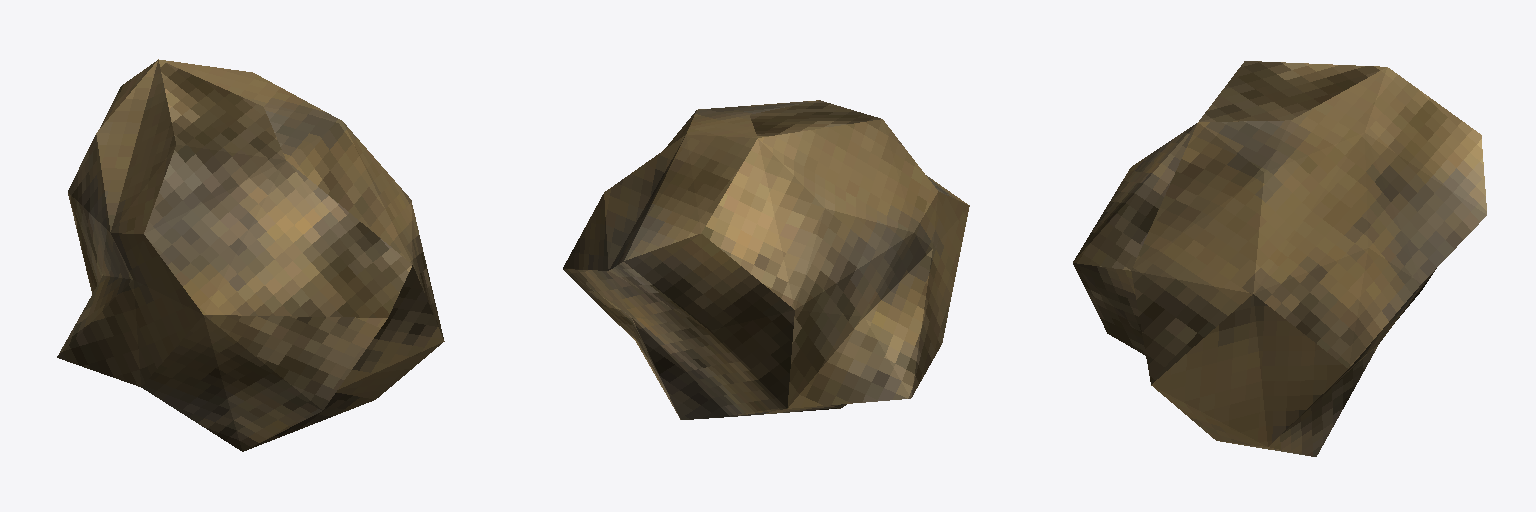
3 views of the same model, side by side, from view 1: azimuth 30°, elevation 25°; view 2: azimuth 150°, elevation 25°; view 3: azimuth 270°, elevation 25° (orthographic).
Parts seen in each view (by area): view 1: Asteroid; view 2: Asteroid; view 3: Asteroid.
Boxes of the visible parts, x1,y1,x2,y2 form: Asteroid: [57, 59, 444, 451]; Asteroid: [563, 100, 969, 419]; Asteroid: [1073, 61, 1486, 456].
Bounding box in the file's own units: 17.02 × 15.94 × 17.85.
1 materials, 1 textured.